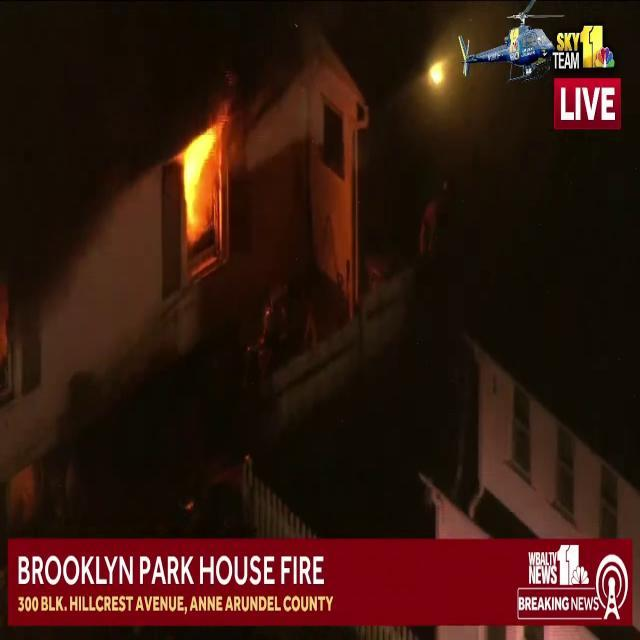Fire: (174, 104, 230, 244)
